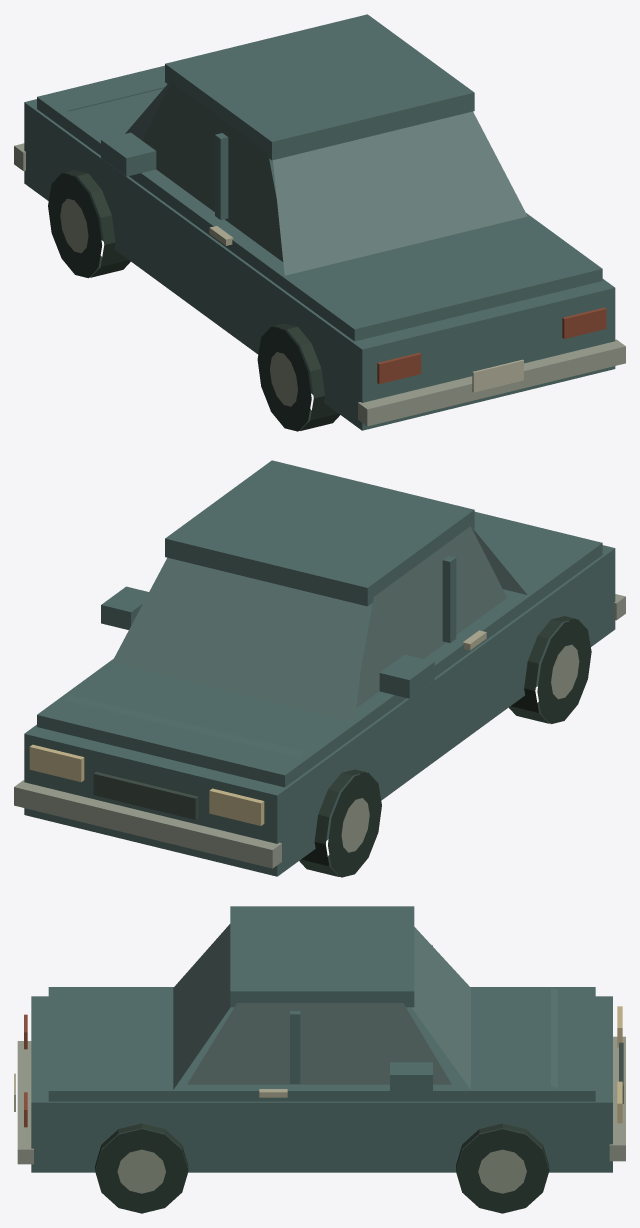
File: small-morning-clover-hatchback-v1.glb
3 renders of one model, top to bottom at view 1: azimuth 30°, elevation 25°; view 2: azimuth 150°, elevation 25°; view 3: azimuth 270°, elevation 25°, orthographic. The views are drawn at different scales.
Visible parts, largest first — view 1: plain; view 2: plain; view 3: plain.
Part boxes in pixels (left/top/right/bottom): plain: left=14, top=14, right=625, bottom=431; plain: left=14, top=460, right=625, bottom=877; plain: left=14, top=906, right=625, bottom=1213.
Bounding box in the file's own units: 2.27 × 1.68 × 4.52.
